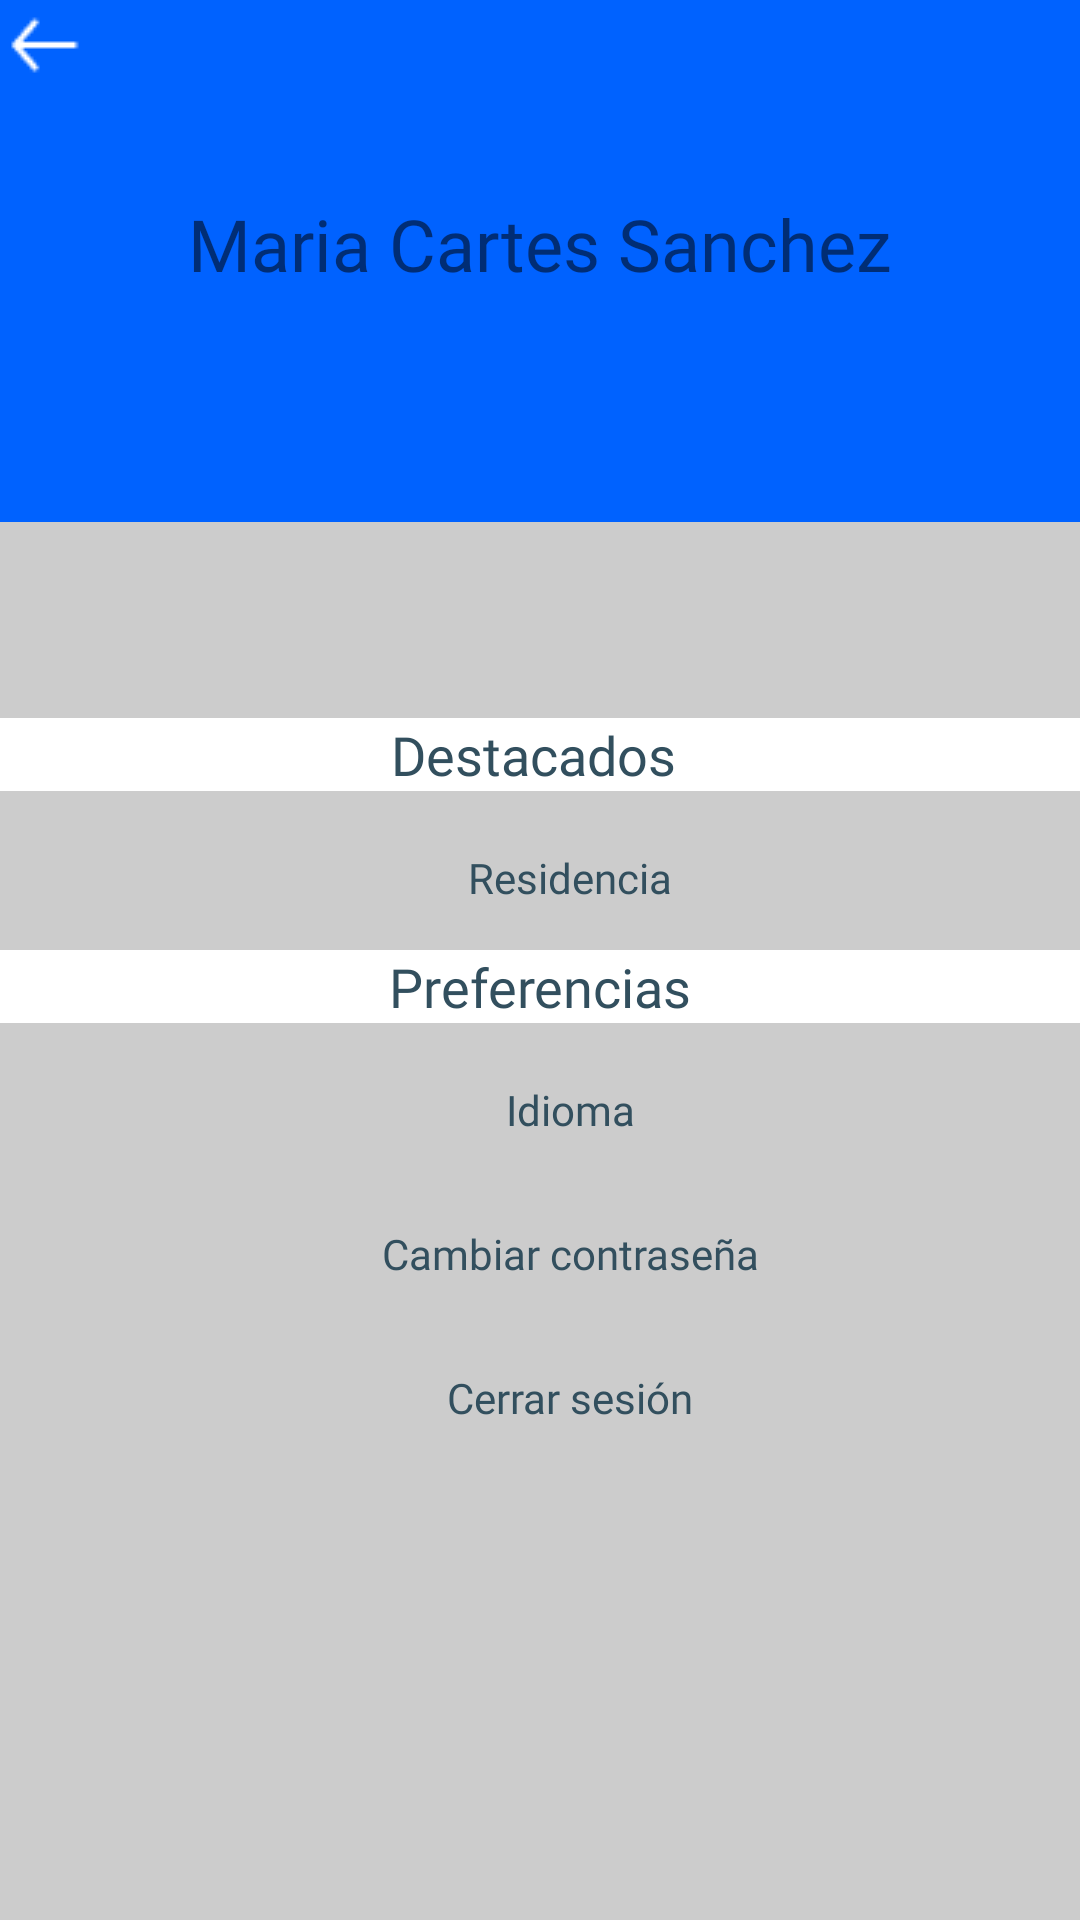

Icon bounding boxes for this 1080 × 1920 phone screenshot, format (x1, y1, x2, y2):
arrow left: (11, 17, 79, 73)
